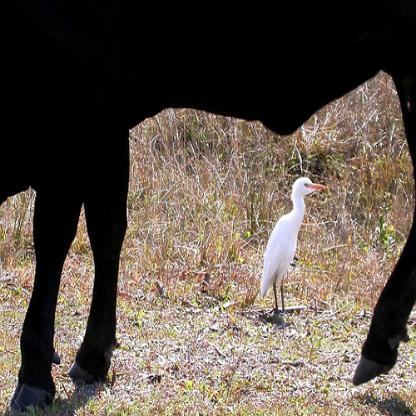bird: (259, 174, 326, 314)
cow: (0, 0, 415, 415)
